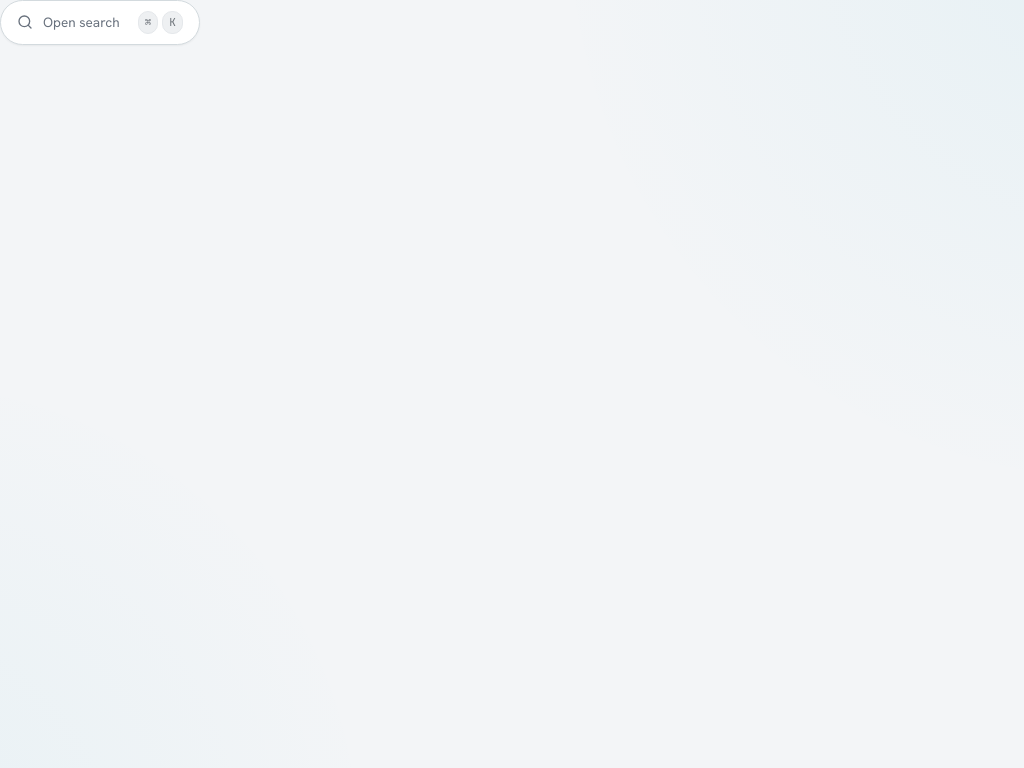
Test case: CommandPalette favorites (#231) › unpins a starred item via its filled star
What coordinates should you click on to do the following:
click the button "Open search ⌘ K"
I would click on:
 (100, 22)
Its box is [0,0,200,44].
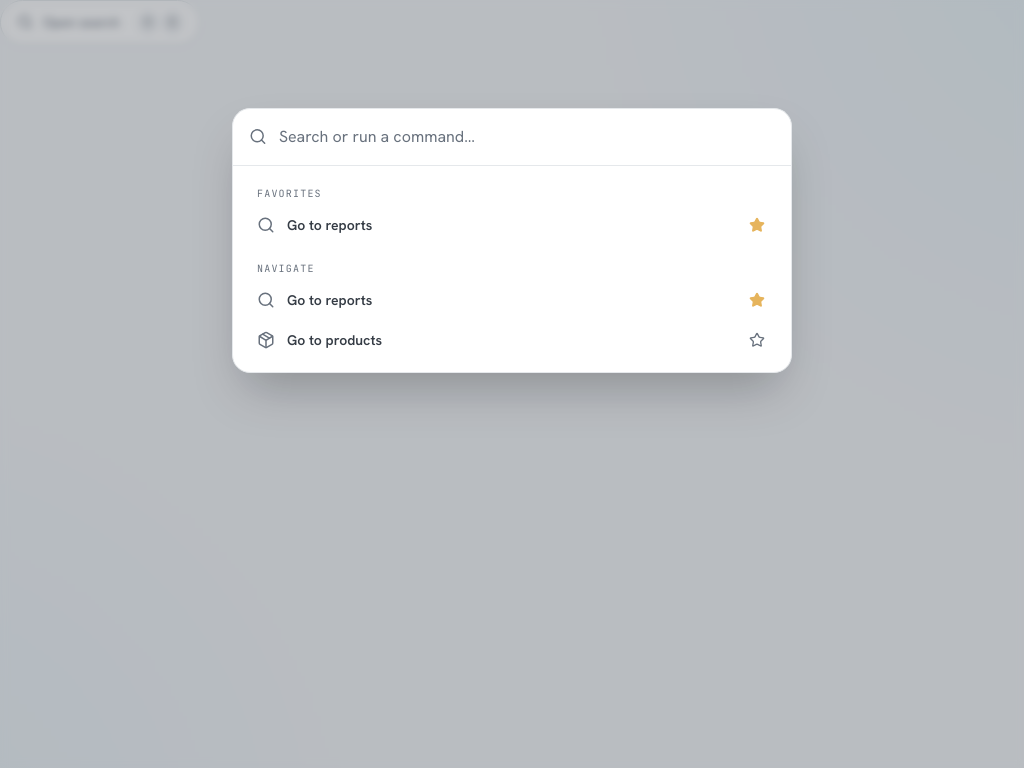
Now the text "Favorites" is shown, box [257,186,322,200]
What coordinates should you click on to do the following:
click the 1st button named "Remove from favorites: Go to reports"
I would click on:
 (757, 224)
Its box is [739,206,775,242].
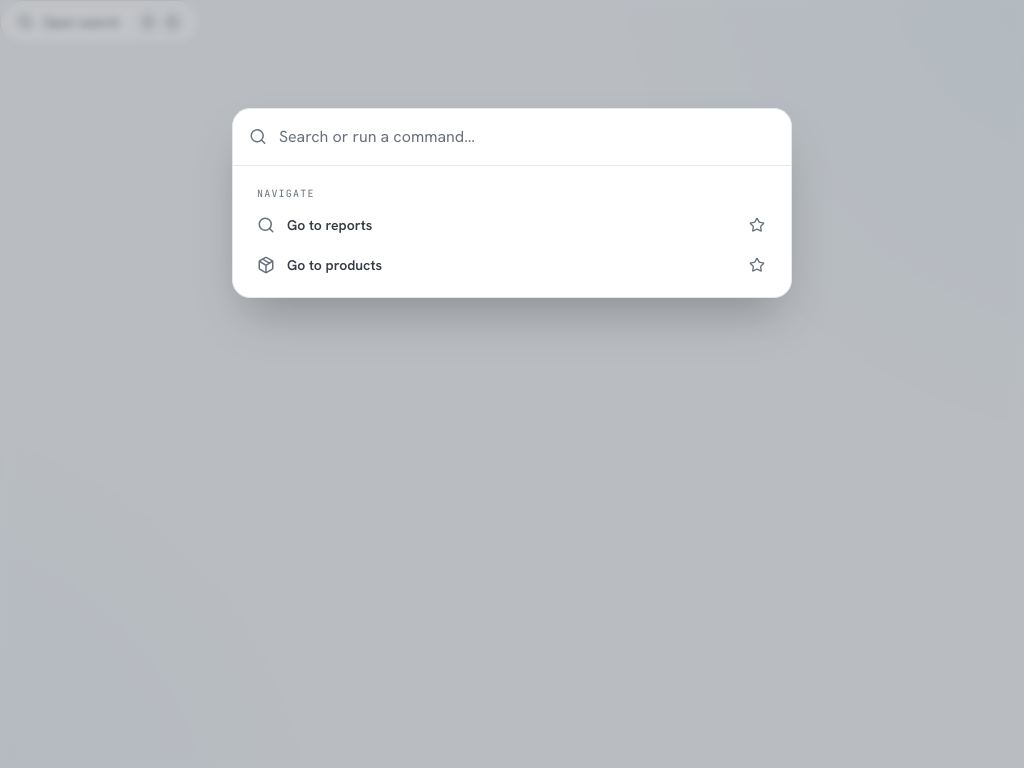
Now the text "Favorites" is gone
